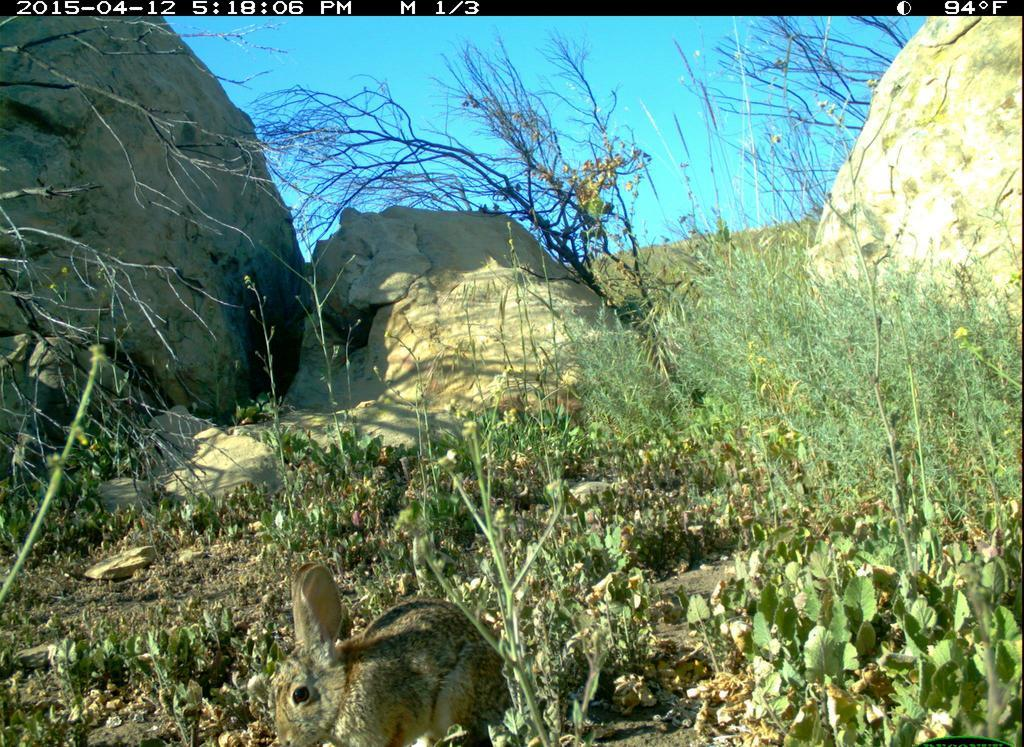rabbit: (257, 552, 523, 747)
